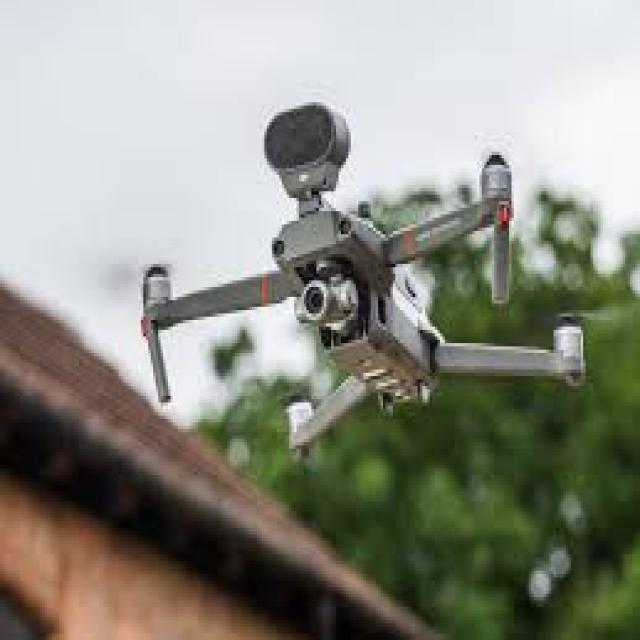drone: (130, 90, 626, 480)
